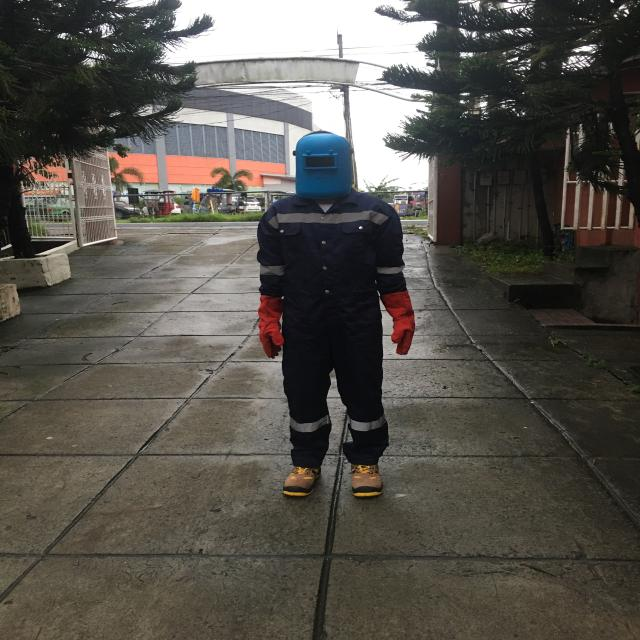with_helmet: (295, 132, 352, 200)
